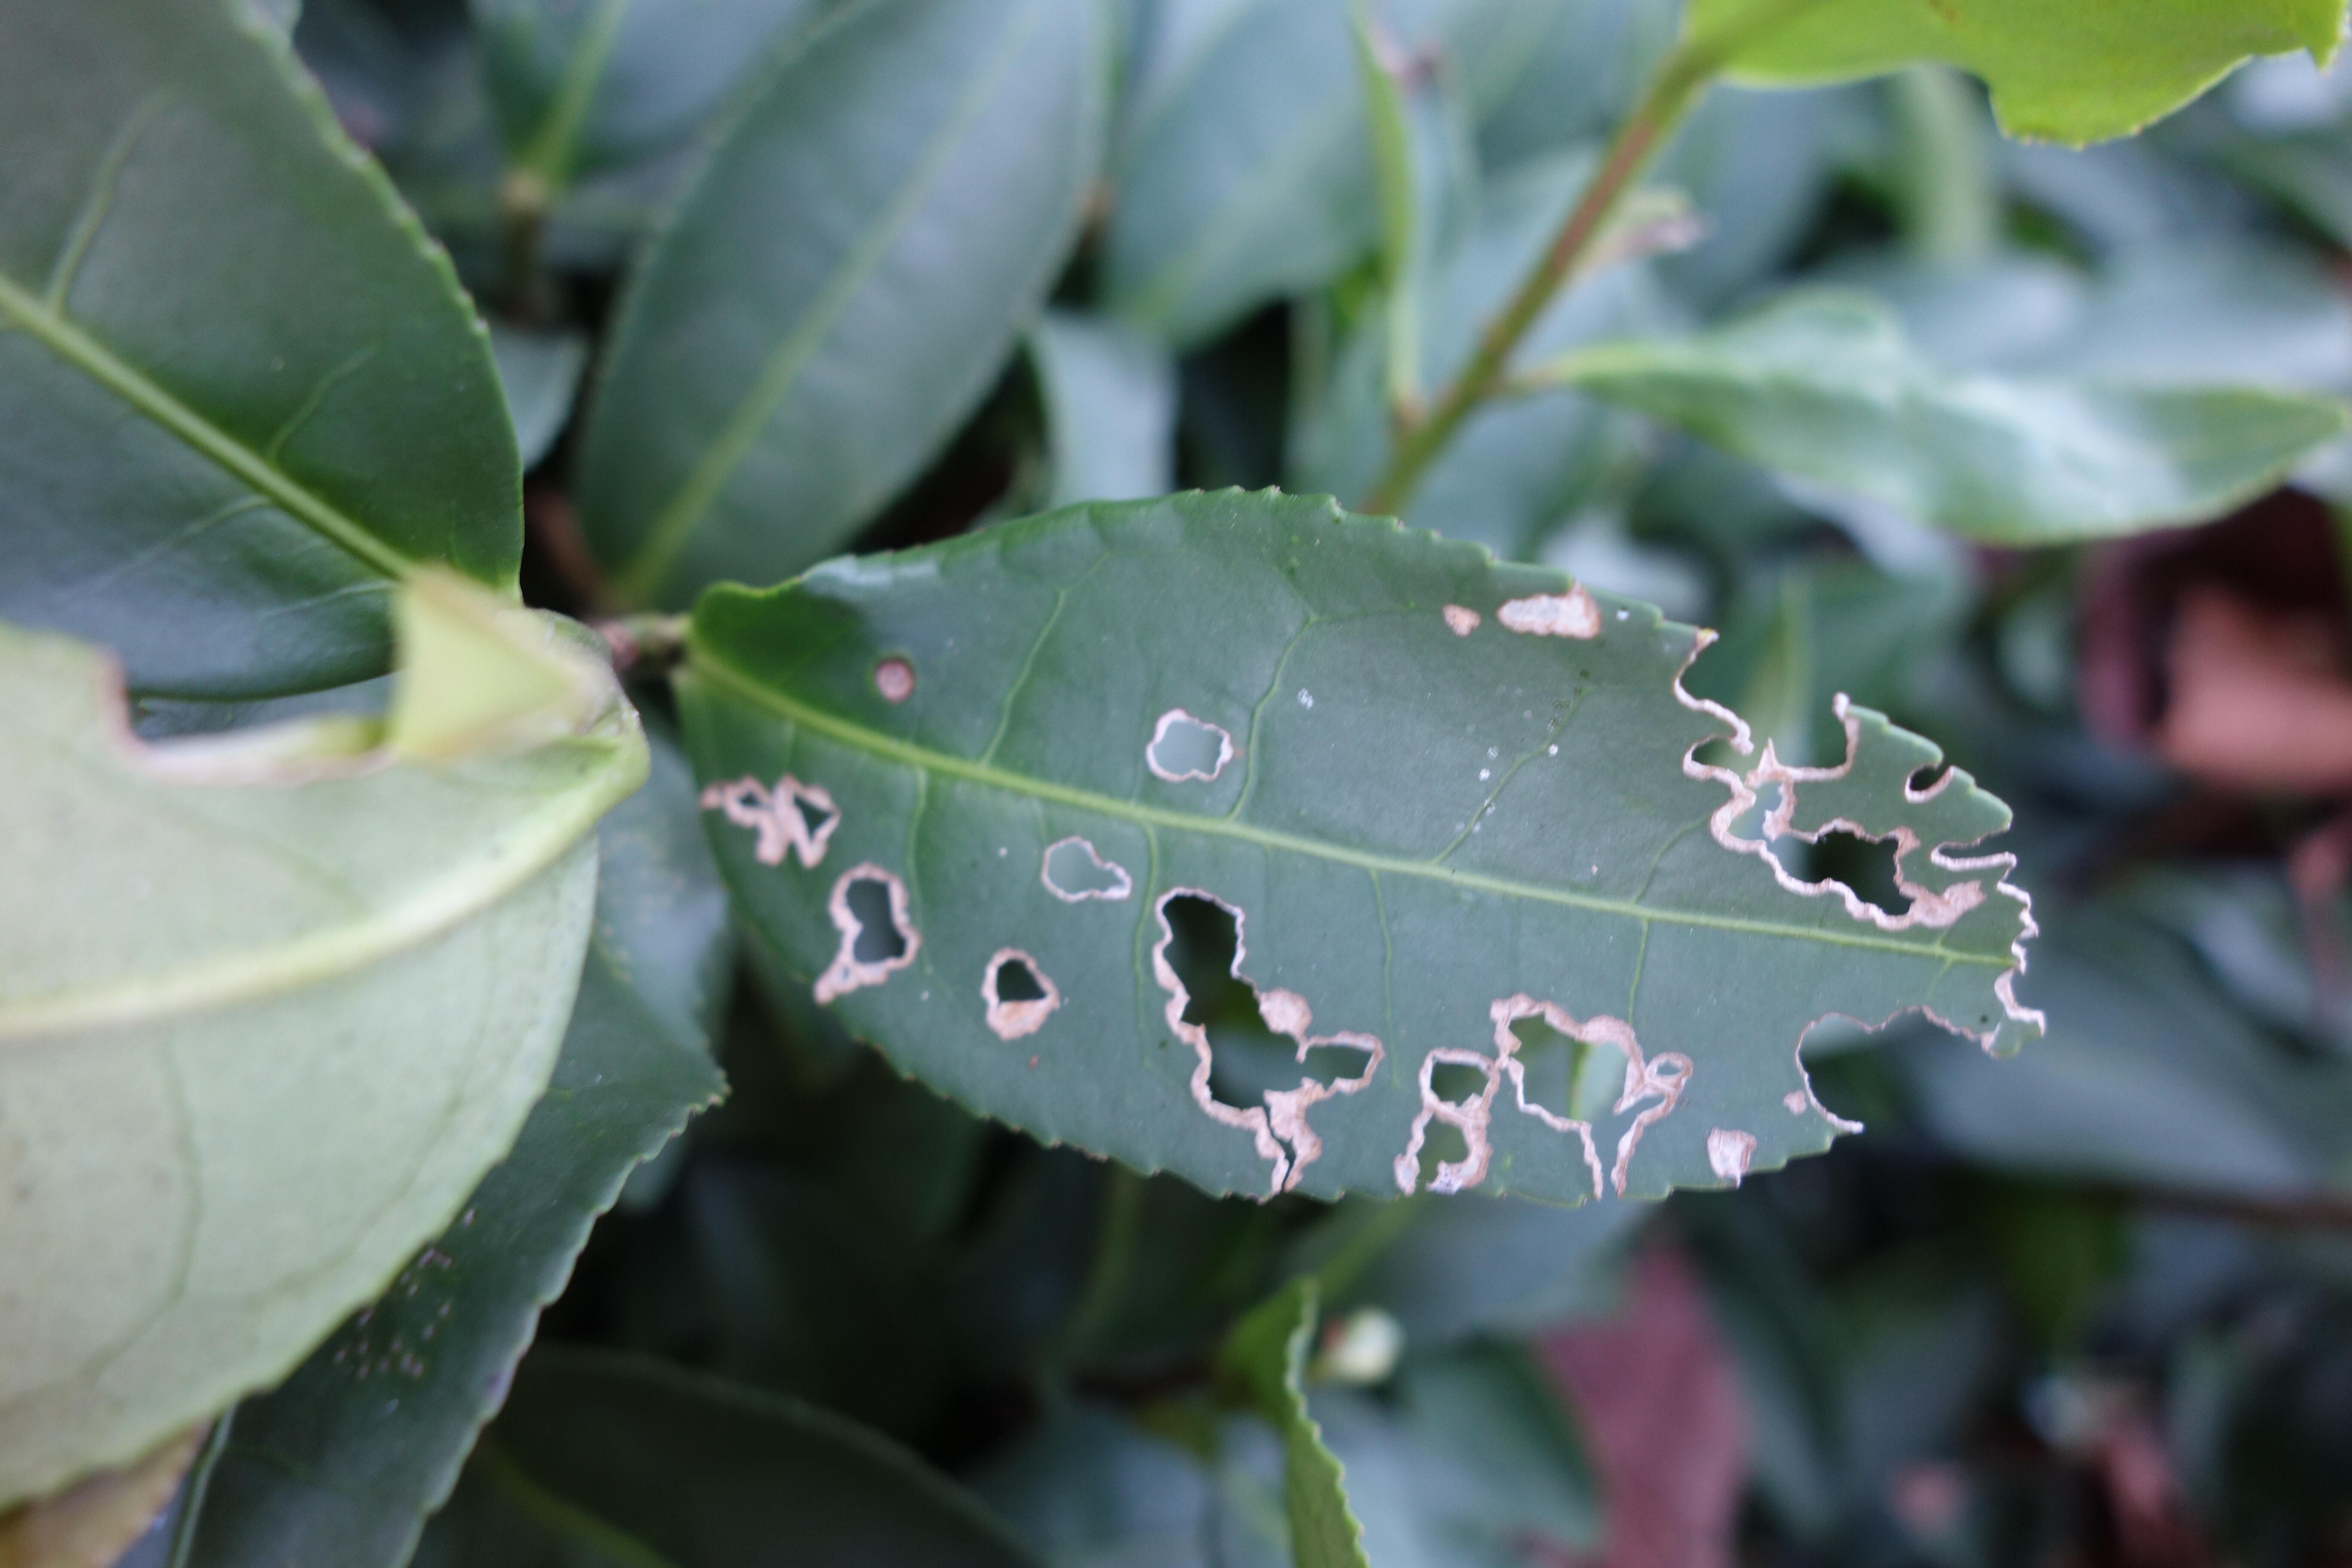chihuo_high: (656, 481, 2049, 1197)
